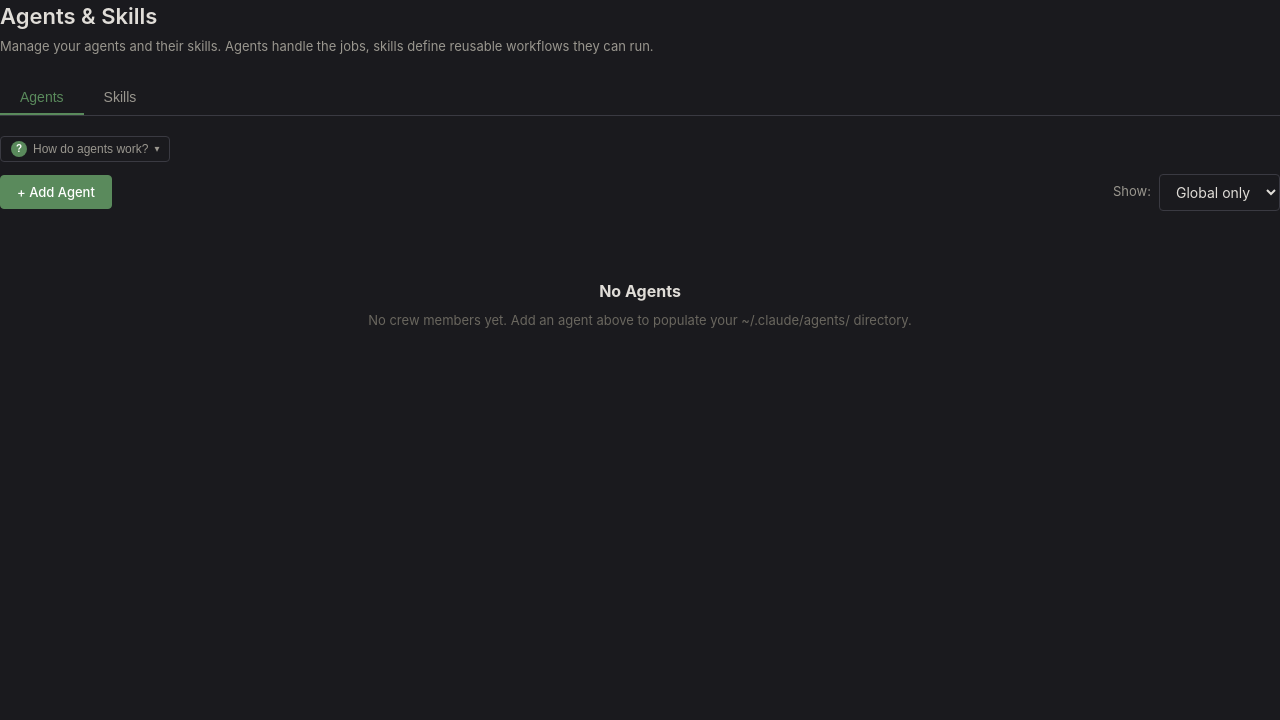
Test: AgentsPage › opens create modal when Add Agent is clicked
Click the button "+ Add Agent". click: {"x": 56, "y": 192}
box: [0,175,112,209]
(page scrolled)
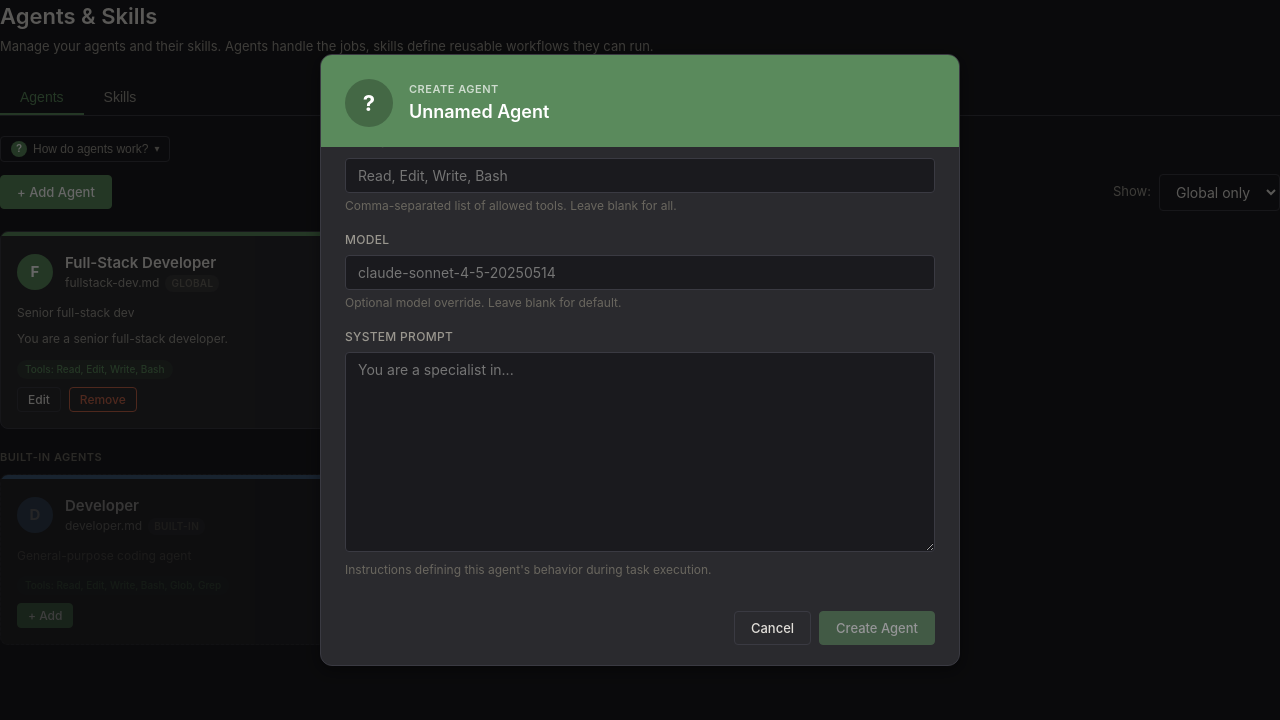
Now the text "Create Agent" is shown 2 times, box [409,82,499,96]; [819,611,935,645]
Now the text box with placeholder "You are a specialist in..." is shown, box [345,352,935,552]
